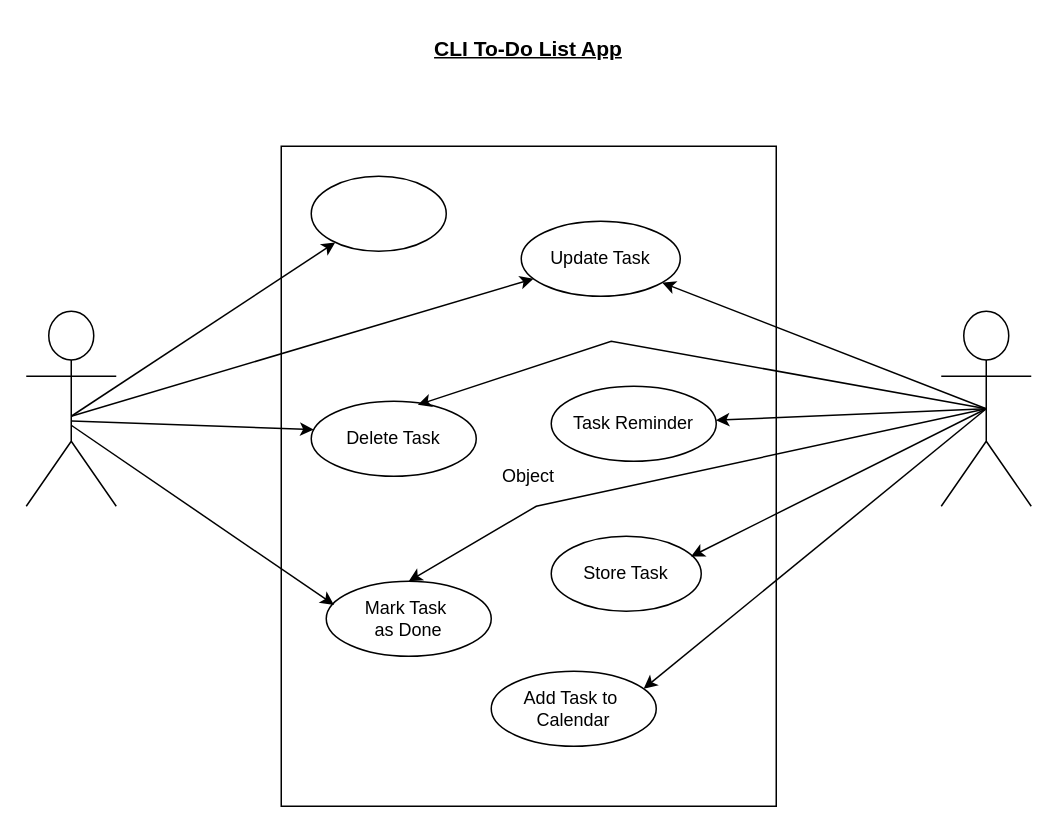
Some shapes in this 1058 by 833 pixel diagram are drawn without their labels. Here are the shapes that lost their labels. From the top down, the centre of each, then its label:
At (378,213): "Enter task".
At (70,408): "User".
At (985,408): "System".
